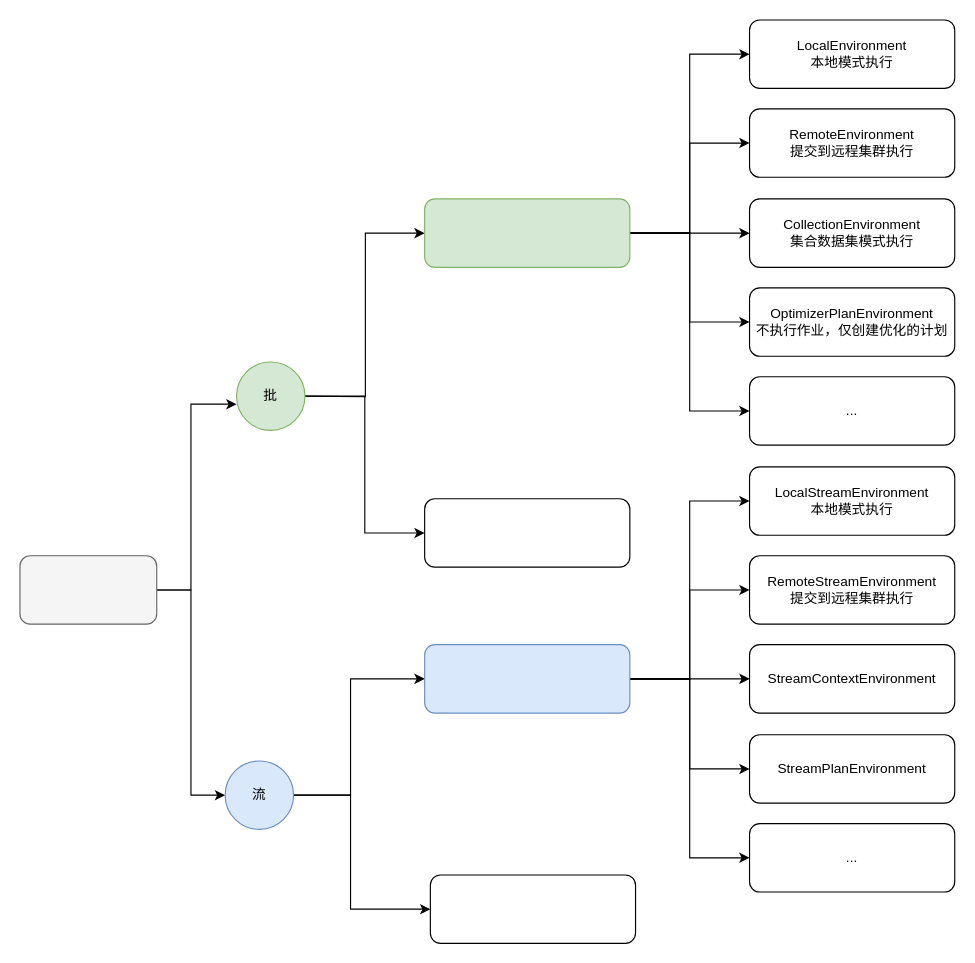
This 975x963 diagram has some shape labels left out. The shapes that lost their labels are listed below. From the top down, each one's centre as x and y in pixels, then its label:
[527,232]: ExecutionEnvironment
[527,532]: BatchTableEnvironment DataSet 与 Table 之间操作
[88,589]: Environment
[527,678]: StreamExecutionEnvironment
[532,908]: StreamTableEnvironment DataStream 与 Table 之间操作
